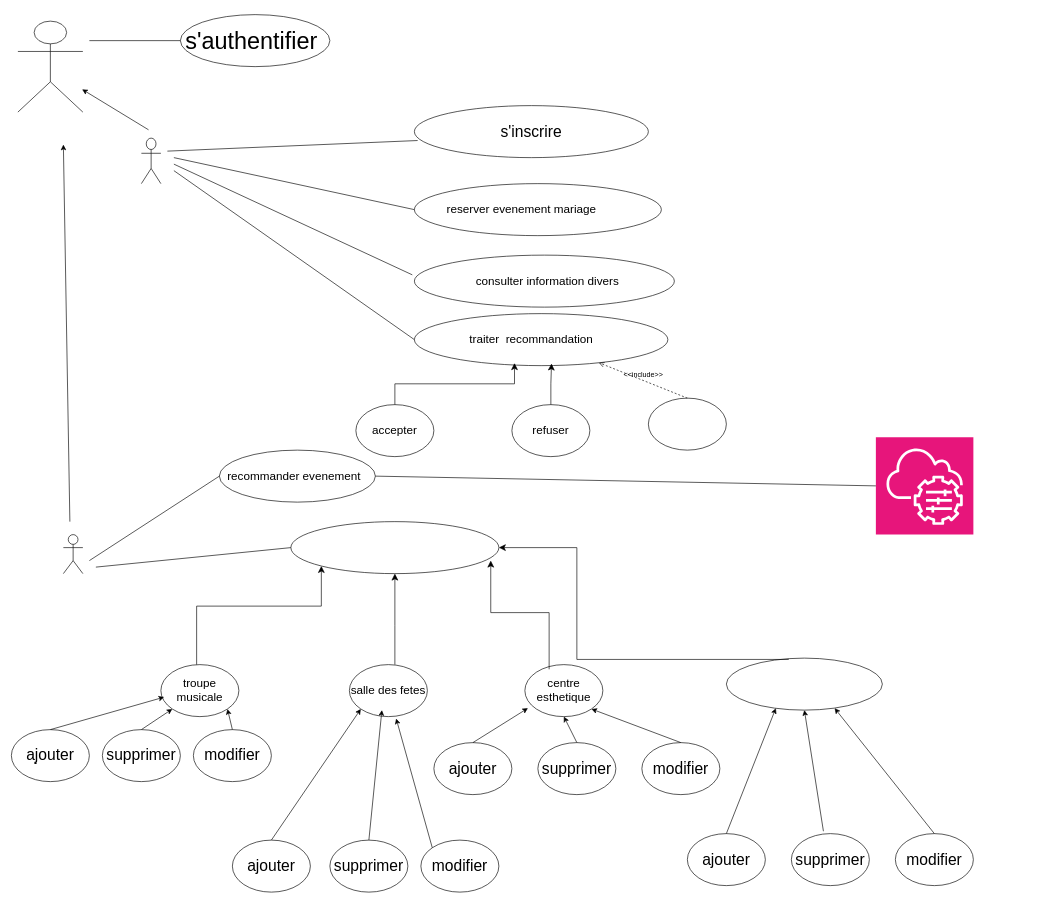
This 1040x903 diagram has some shape labels left out. Here are the shapes that lost their labels. From the top down, the centre of each, then its label:
At [50,66]: "personne".
At [151,160]: "user".
At [687,423]: "MAJ BD".
At [924,485]: "sysyteme de recommandation".
At [73,554]: "admin".
At [394,547]: "gerer BD".
At [804,683]: "habillement".
